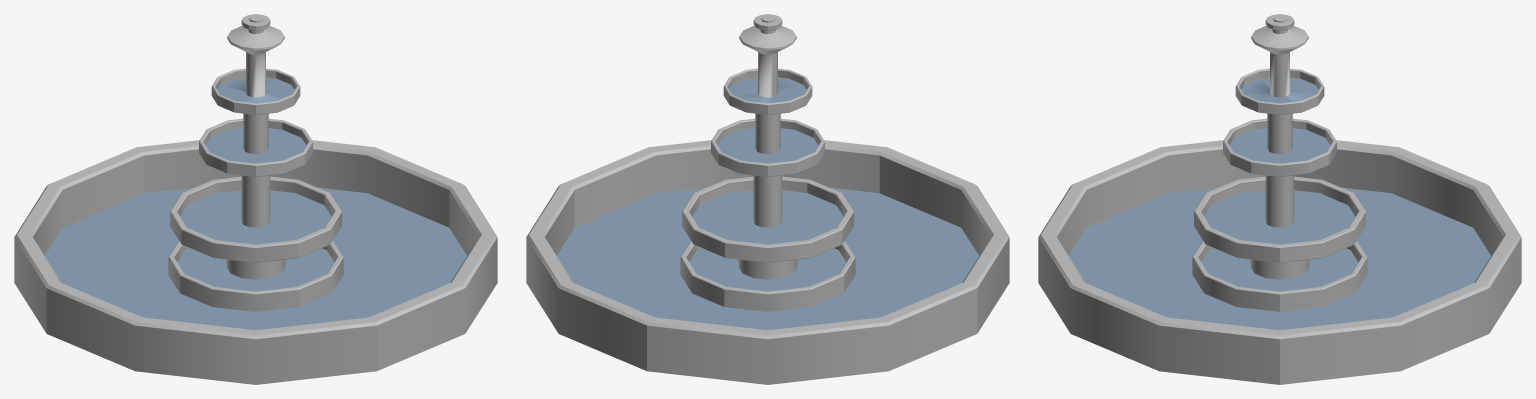
File: fonte.fbx
3 views of the same model, side by side, from view 1: azimuth 30°, elevation 25°; view 2: azimuth 150°, elevation 25°; view 3: azimuth 270°, elevation 25° (orthographic).
Visible parts, largest first — view 1: pCylinder3; view 2: pCylinder3; view 3: pCylinder3.
Boxes of the visible parts, <box> form: pCylinder3: <box>14,14,497,384</box>; pCylinder3: <box>526,14,1009,384</box>; pCylinder3: <box>1038,14,1521,384</box>.
Bounding box in the file's own units: 1383 × 836 × 1383.
